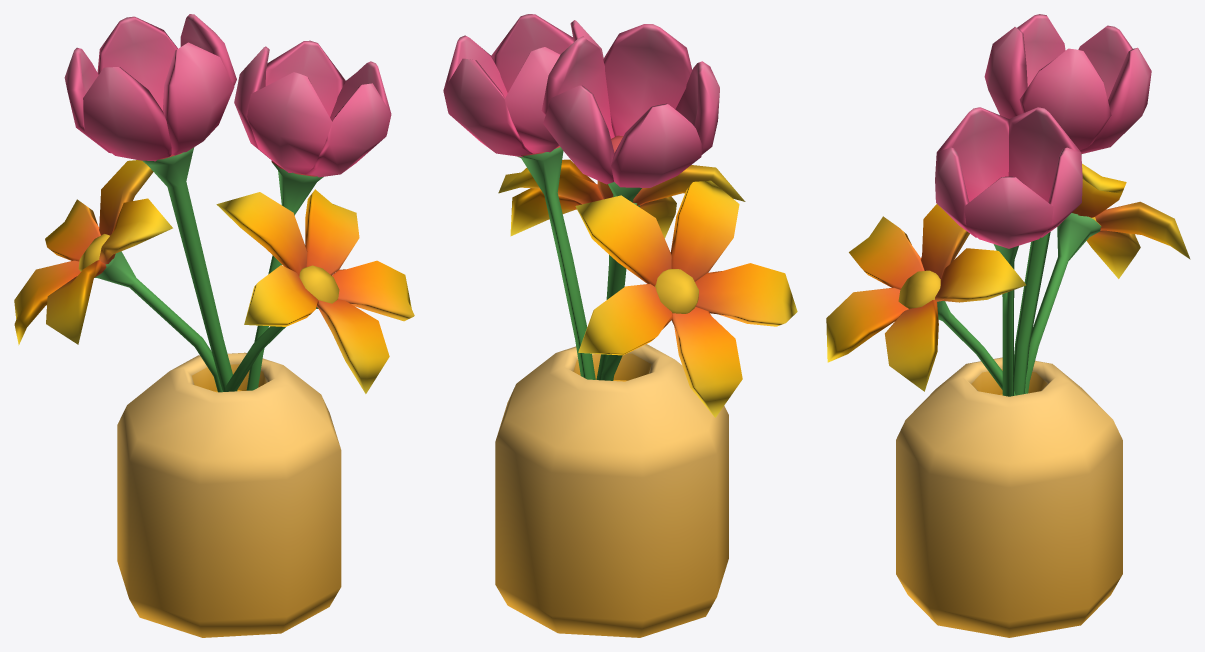
The model's file is Furniture_Plants_10.fbx.
3 views of the same model, side by side, from view 1: azimuth 30°, elevation 25°; view 2: azimuth 150°, elevation 25°; view 3: azimuth 270°, elevation 25° (orthographic). The views are drawn at different scales.
Visible parts, largest first — view 1: Furniture_Plants_10; view 2: Furniture_Plants_10; view 3: Furniture_Plants_10.
Boxes of the visible parts, x1,y1,x2,y2 form: Furniture_Plants_10: (14, 14, 414, 637); Furniture_Plants_10: (443, 14, 797, 637); Furniture_Plants_10: (826, 14, 1190, 637).
Size of the model in its own units: 93.31 by 154 by 91.43.
